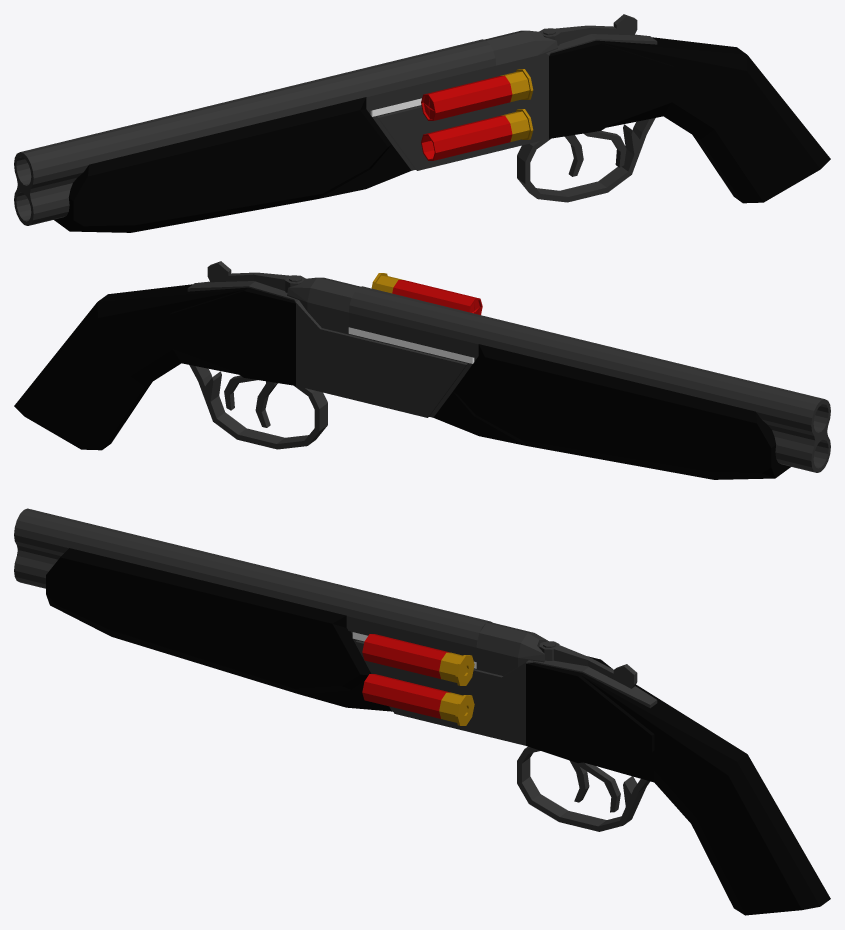
Rendered from Shotgun_Prototype.fbx.
The picture shows the model from 3 angles, top to bottom: view 1: azimuth 30°, elevation 25°; view 2: azimuth 150°, elevation 25°; view 3: azimuth 330°, elevation 25°; orthographic projection.
Parts seen in each view (by area): view 1: Cylinder, Cube, Cylinder.004, Cylinder.003, Cylinder.005; view 2: Cylinder, Cube, Cylinder.003, Cylinder.005, Cylinder.001; view 3: Cylinder, Cube, Cylinder.003, Cylinder.004, Cylinder.005.
Boxes of the visible parts, x1,y1,x2,y2 form: Cylinder: (14, 39, 496, 232); Cube: (377, 30, 830, 203); Cylinder.004: (421, 109, 533, 160); Cylinder.003: (421, 69, 533, 120); Cylinder.005: (539, 14, 637, 45); Cylinder: (348, 286, 830, 479); Cube: (14, 277, 467, 450); Cylinder.003: (371, 273, 482, 314); Cylinder.005: (207, 261, 305, 292); Cylinder.001: (348, 327, 474, 363); Cylinder: (14, 508, 492, 711); Cube: (355, 622, 830, 915); Cylinder.003: (362, 634, 474, 685); Cylinder.004: (362, 674, 474, 725); Cylinder.005: (539, 641, 637, 688).
Bounding box in the file's own units: 631 × 166 × 70.33.
